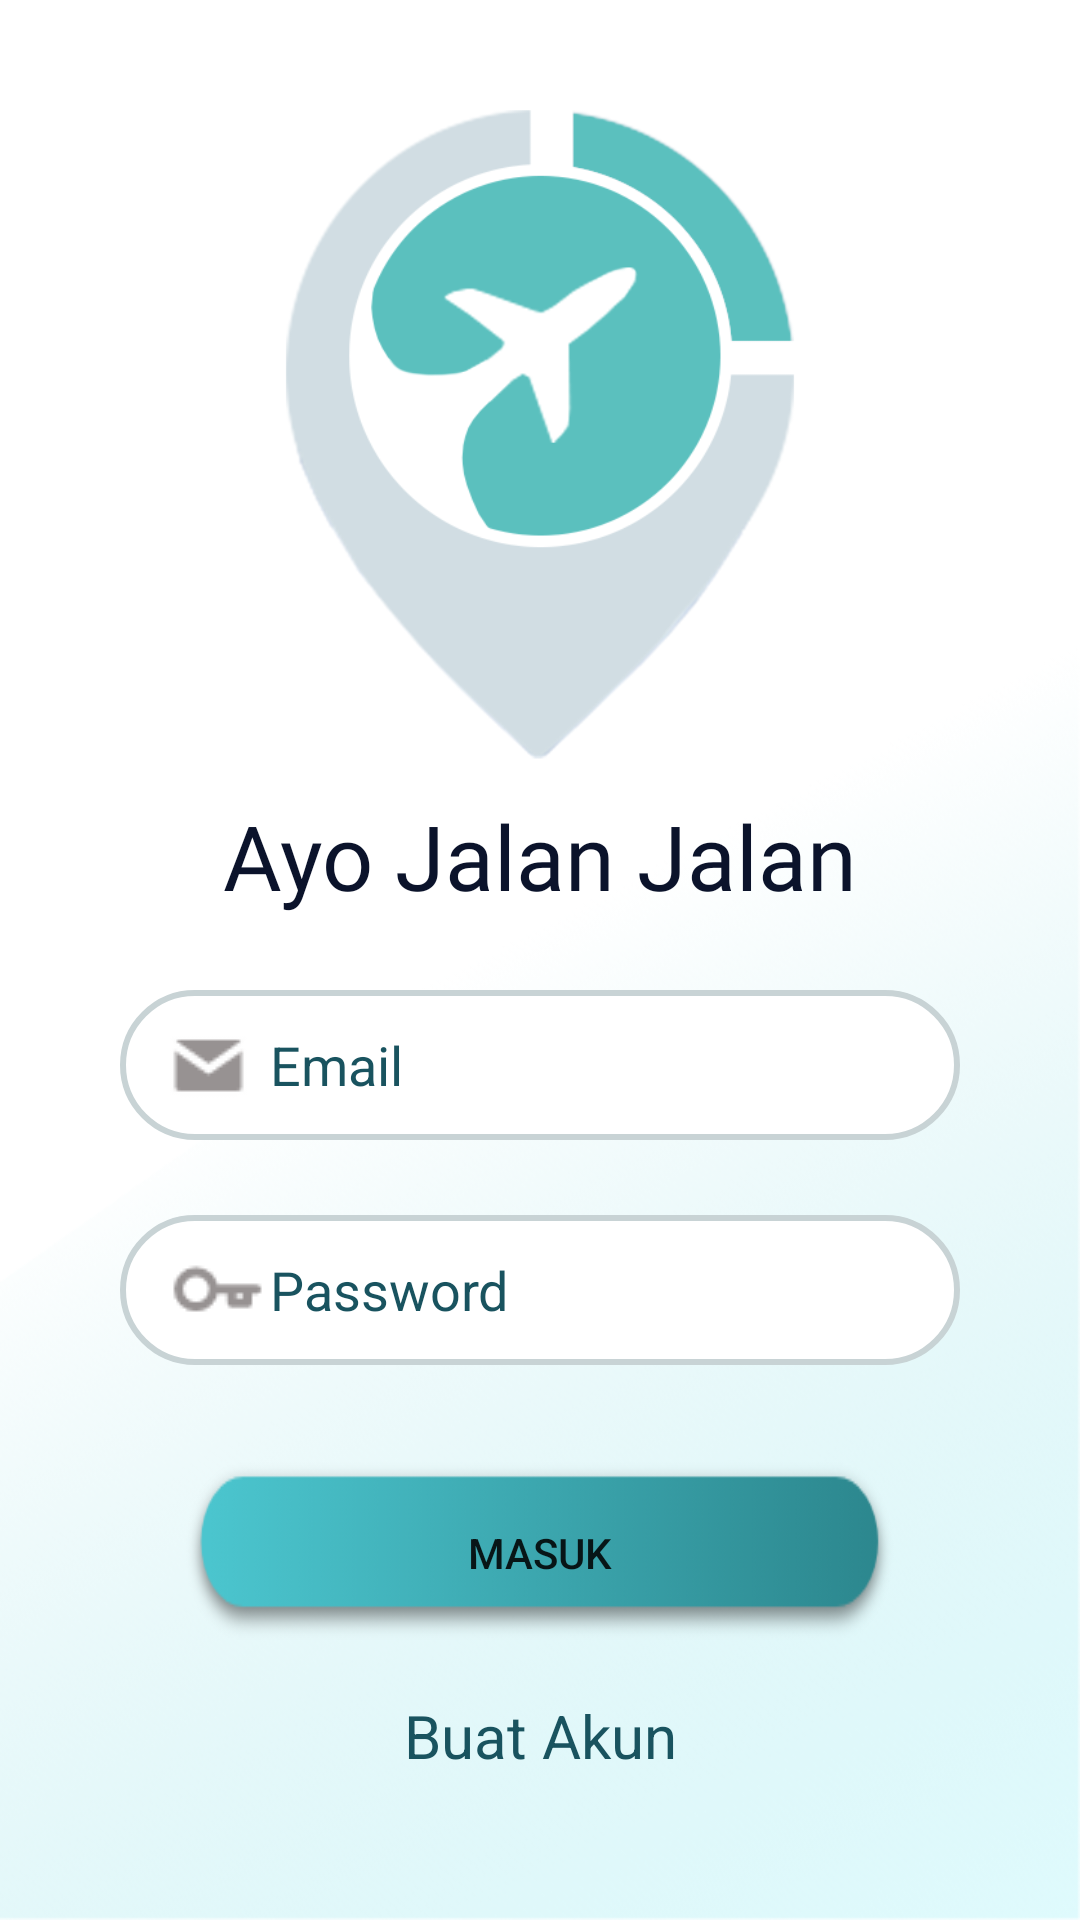

Where to tap for icons on this 1080px x 1920px app screen, as point (x, y):
login key: point (217, 1289)
